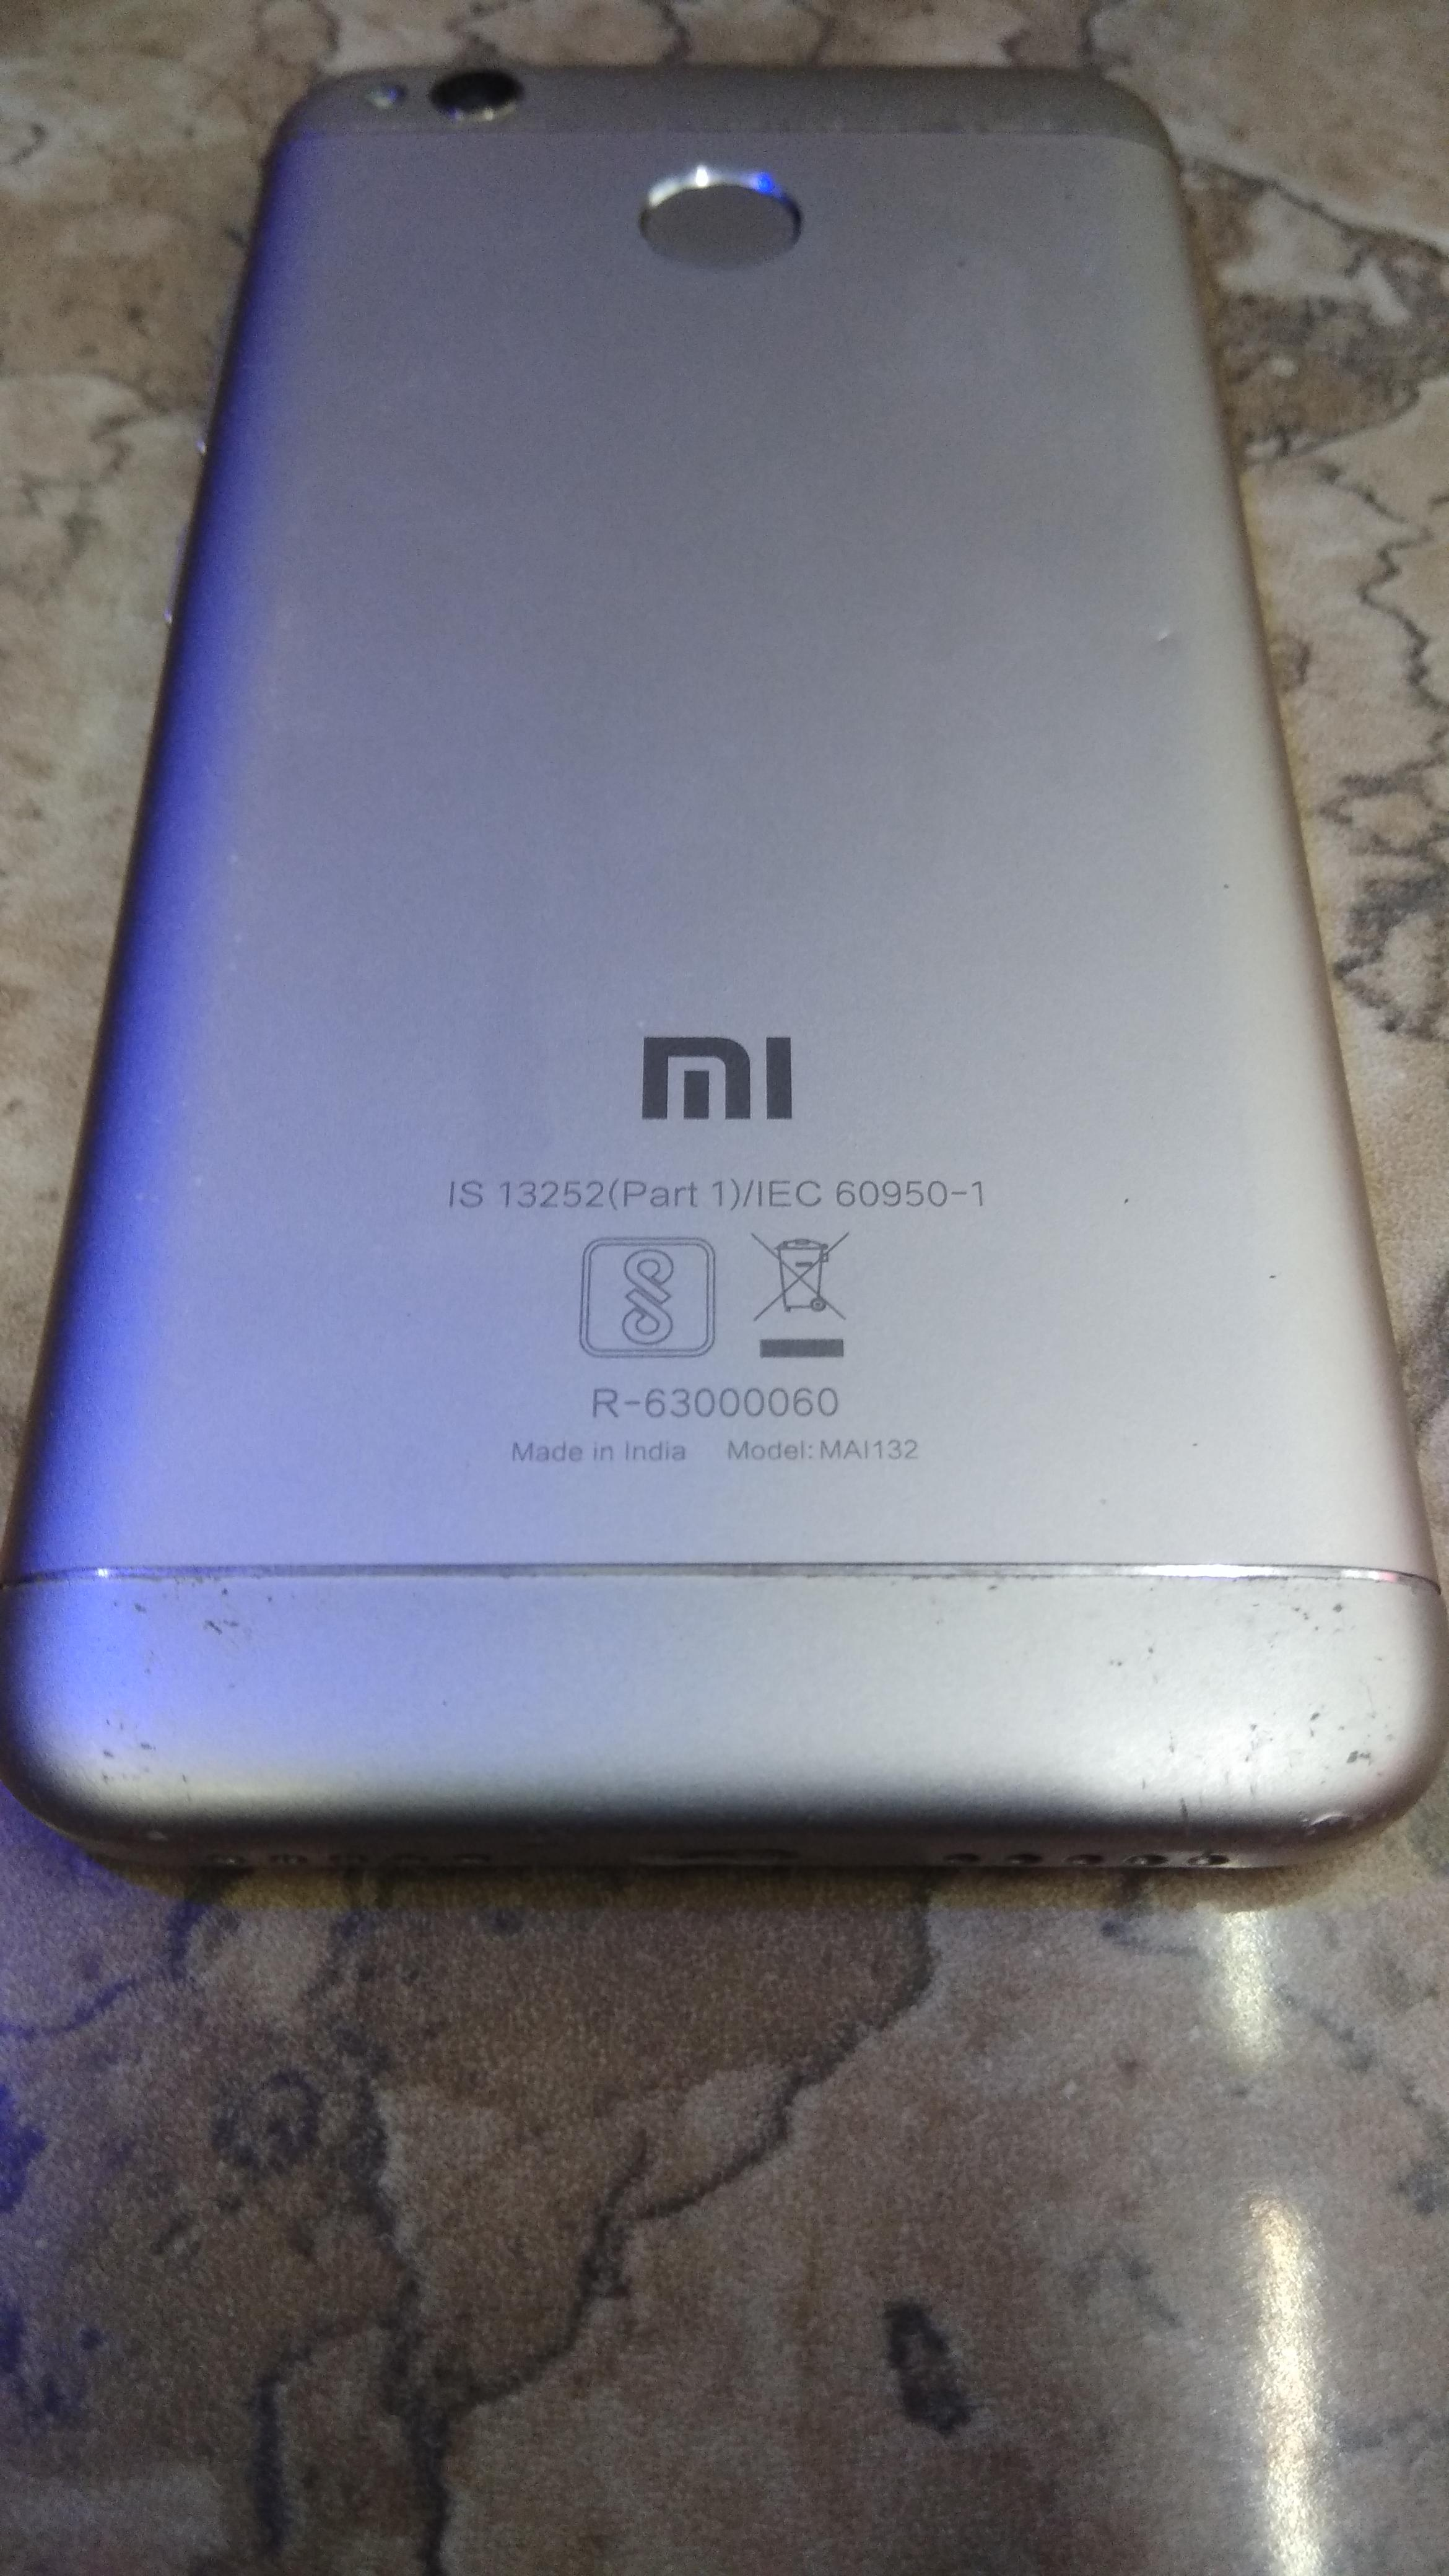Phone: (0, 50, 1449, 2006)
